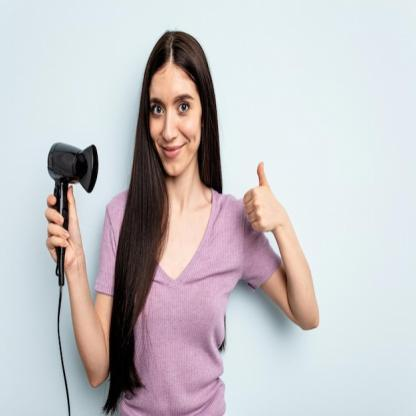thumb_up: (242, 159, 277, 238)
